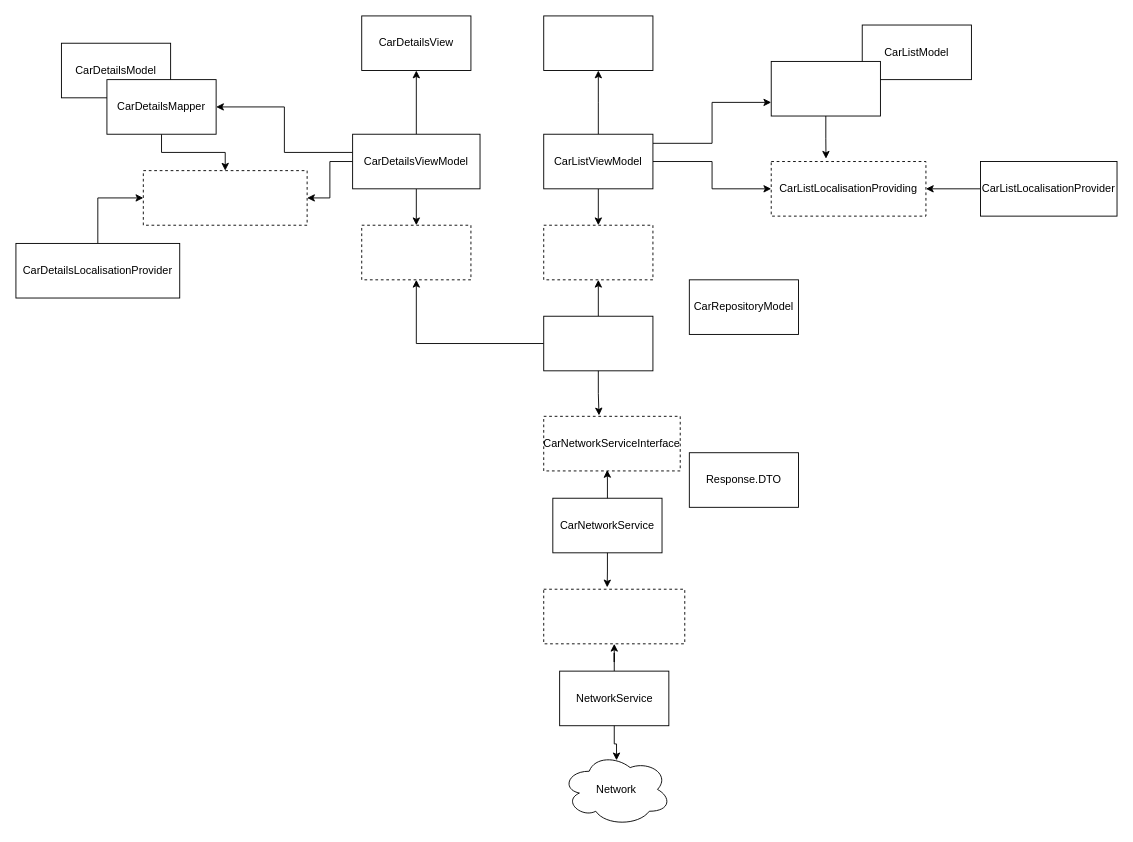
Some shapes in this 1133 by 842 pixel diagram are drawn without their labels. The shapes that lost their labels are listed below. From the top down, each one's centre as x and y in pixels, then its label:
point (598, 43): CarListView
point (825, 88): CarMapper
point (224, 197): CarDetailsLocalisationProviding
point (416, 252): CarDetailsProviding
point (598, 252): CarsFetchable
point (598, 343): CarRepositoryImpl
point (614, 616): NetworkServiceInterface
